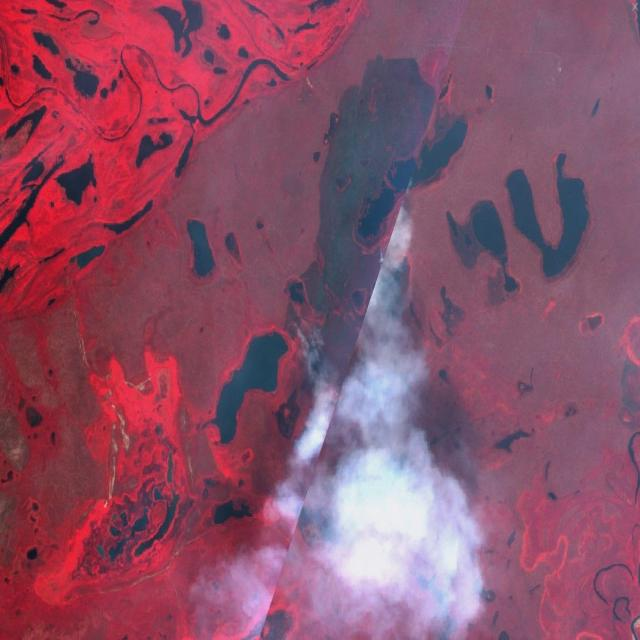fire: (280, 237, 390, 392)
